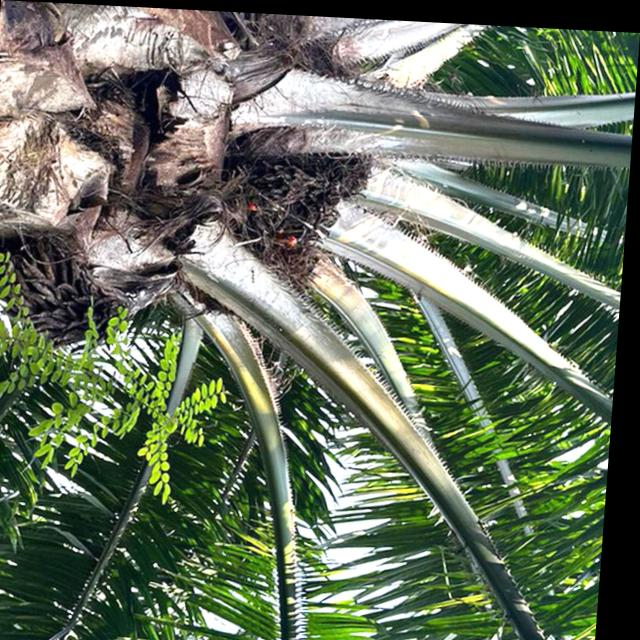ripe: (222, 150, 372, 290)
